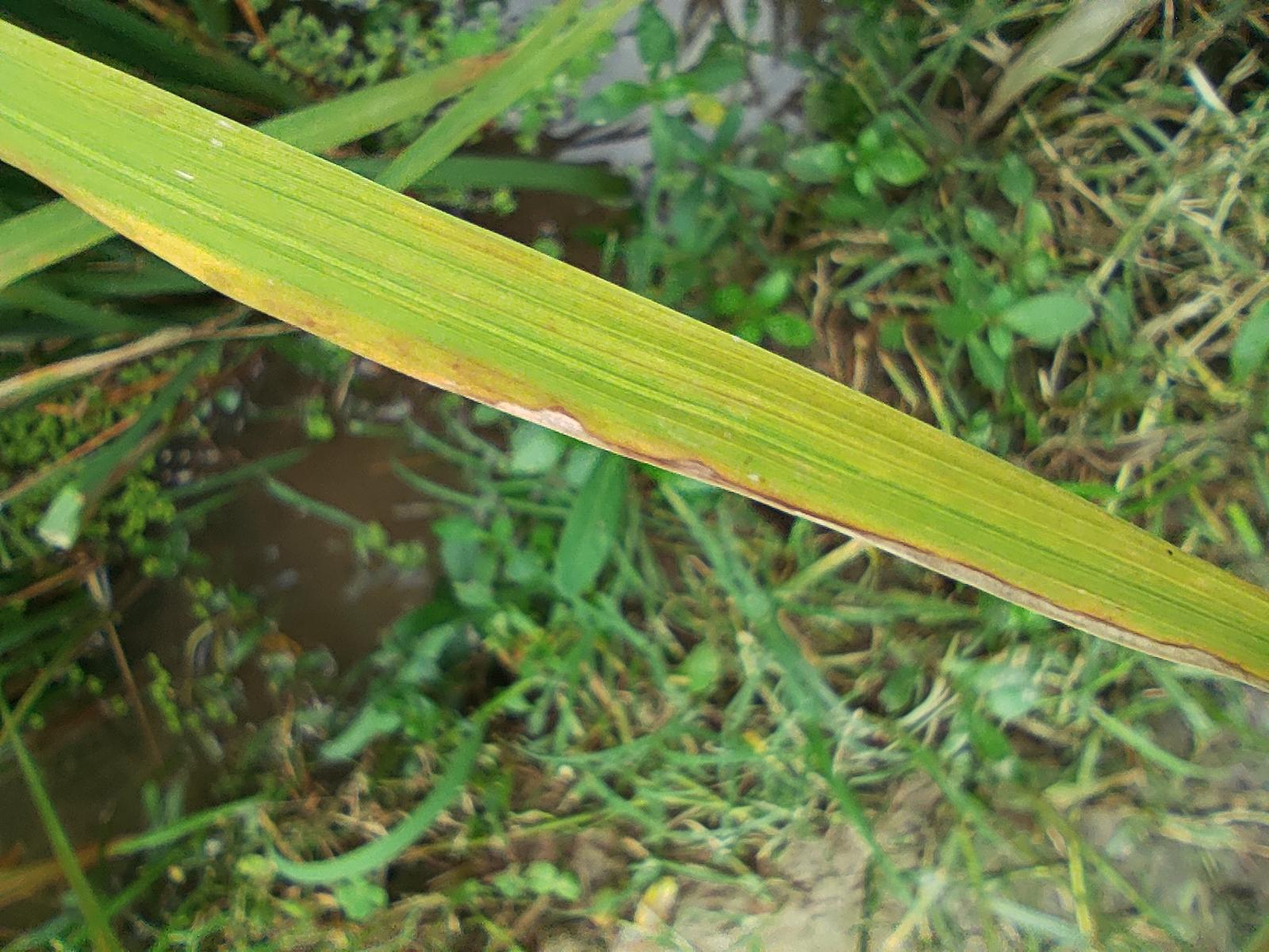BLB: (347, 317, 765, 951)
LEAF: (347, 0, 1237, 951)
